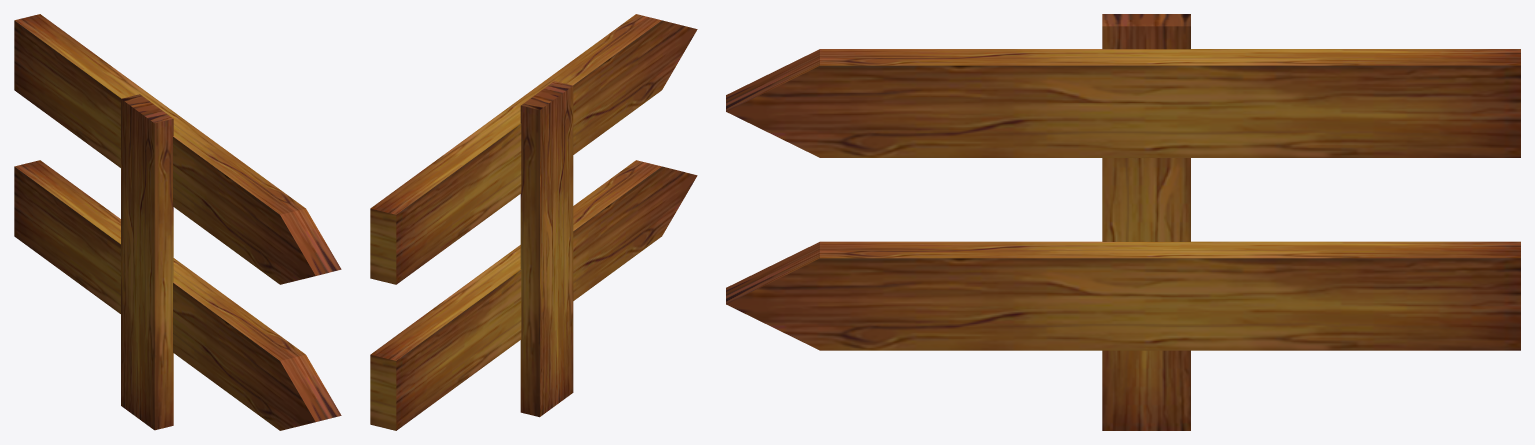
File: CercasComunCantoFBX.fbx
3 renders of one model, left to right at view 1: azimuth 30°, elevation 25°; view 2: azimuth 150°, elevation 25°; view 3: azimuth 270°, elevation 25°, orthographic. The views are drawn at different scales.
Parts seen in each view (by area): view 1: Cube.001; view 2: Cube.001; view 3: Cube.001.
Part boxes in pixels (x1,y1,x2,y2): Cube.001: [14, 14, 341, 430]; Cube.001: [370, 14, 697, 430]; Cube.001: [726, 14, 1520, 430].
Bounding box in the file's own units: 28.81 × 190 × 339.
Materials: 1 (1 with a texture image).
